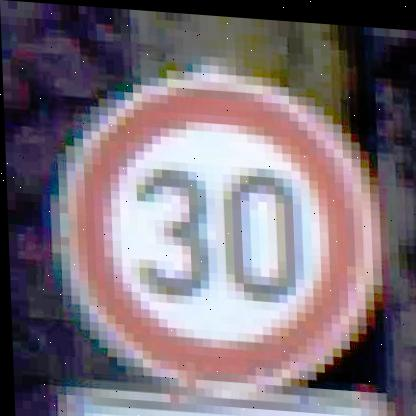Speed Limit -30-: (49, 53, 385, 400)
